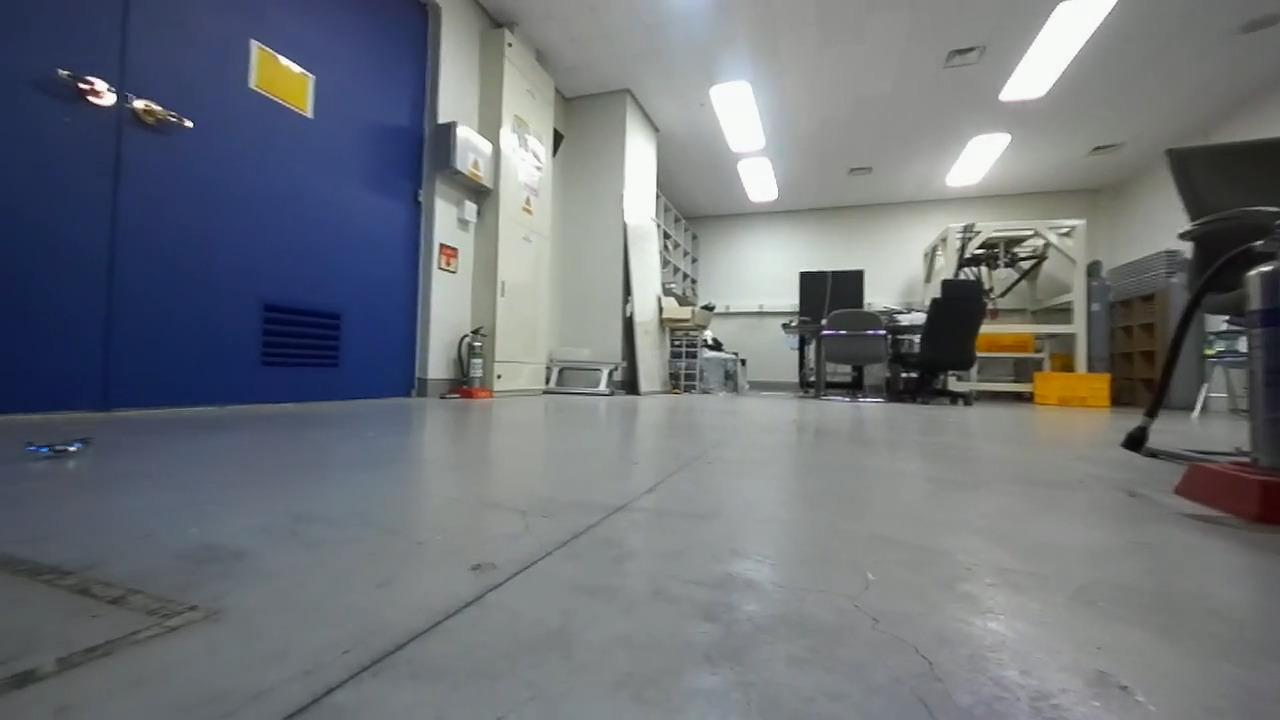crazyflie: (17, 431, 99, 463)
